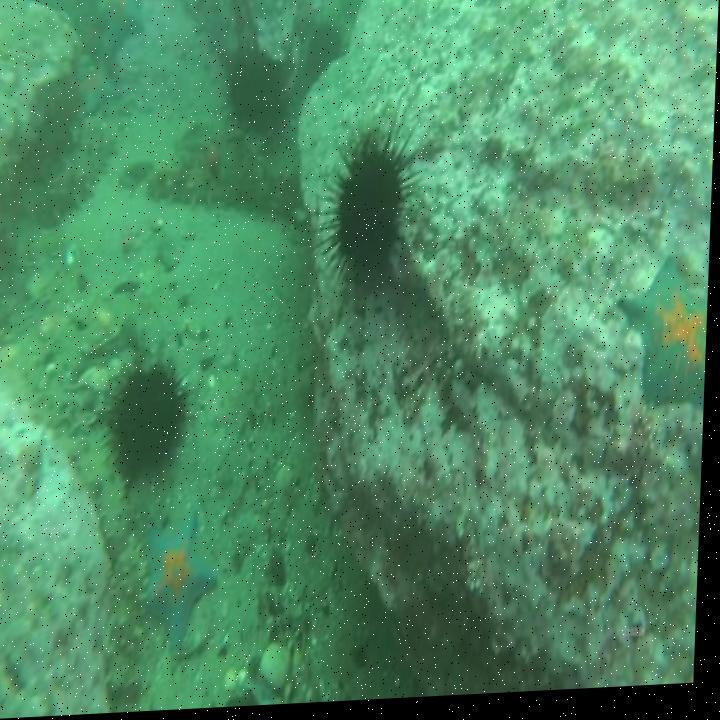echinus: (337, 143, 406, 272), (114, 369, 190, 480), (230, 56, 286, 136), (309, 32, 341, 76)
holothurian: (35, 137, 119, 231), (150, 165, 227, 210)
scallop: (95, 368, 112, 395), (67, 242, 80, 271)
starfish: (617, 262, 712, 417), (143, 511, 224, 658)
